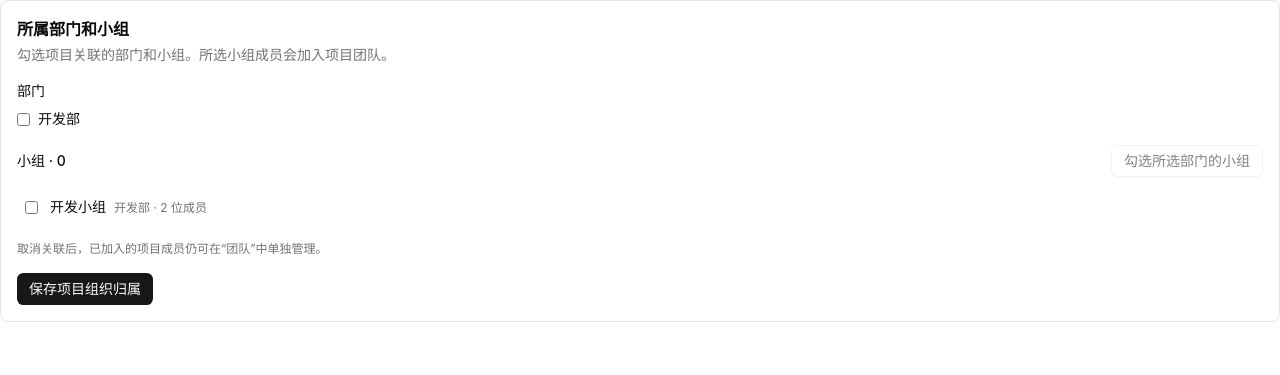
Scenario: project organization selection › checks a department's groups and persists associations before adding members to this project
This screenshot has width=1280, height=375.
Click the checkbox labelled "开发部" at (24, 119), box [17,112,30,126]
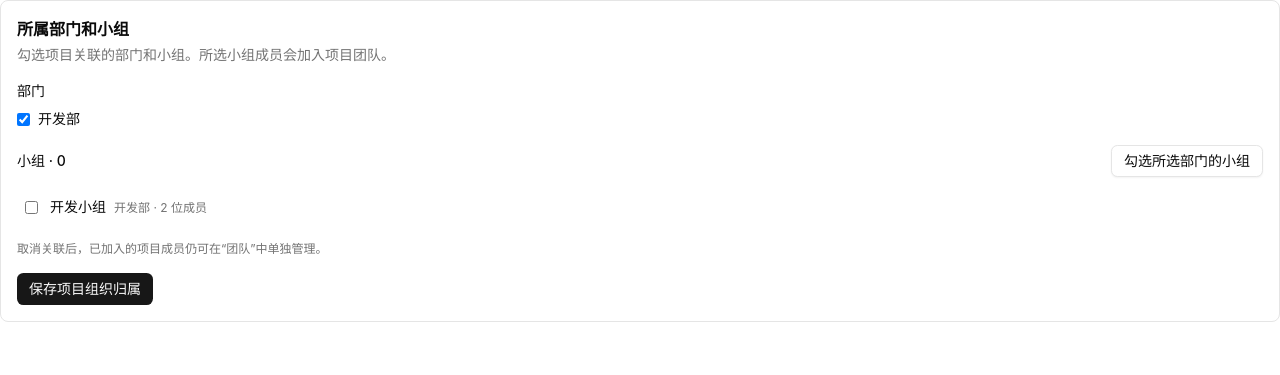
Click the button "勾选所选部门的小组" at (1187, 161), box [1111,145,1263,177]
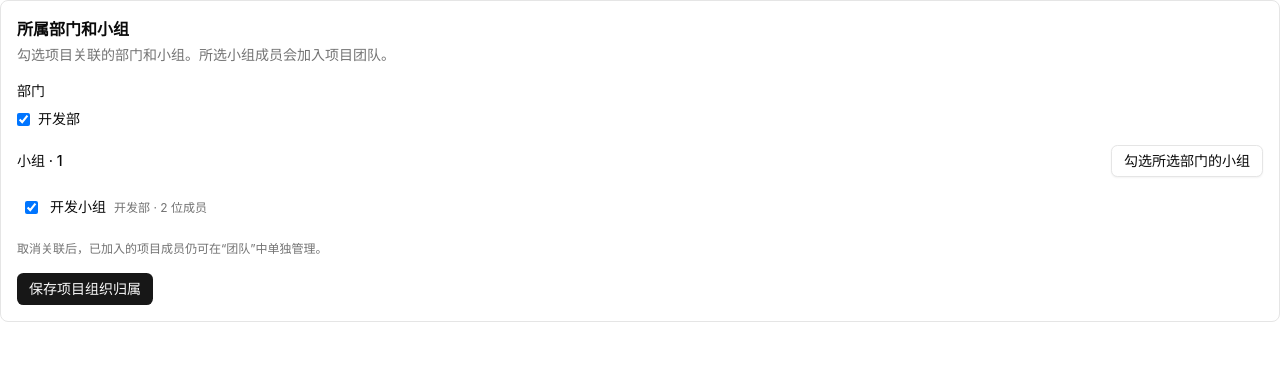
Submit the form, box [17,81,1263,305]
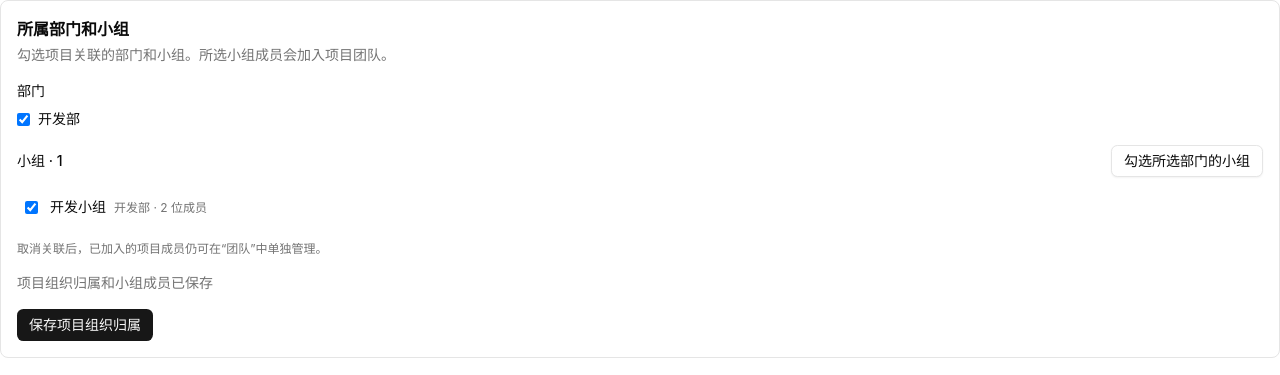
Expected: the text "项目组织归属和小组成员已保存" is shown, [17,274,213,291]
